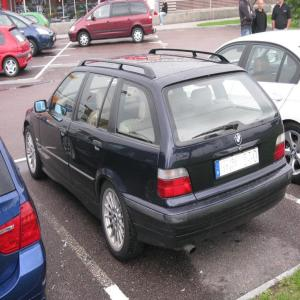Vehicle-registration-plate: (216, 147, 260, 180)
